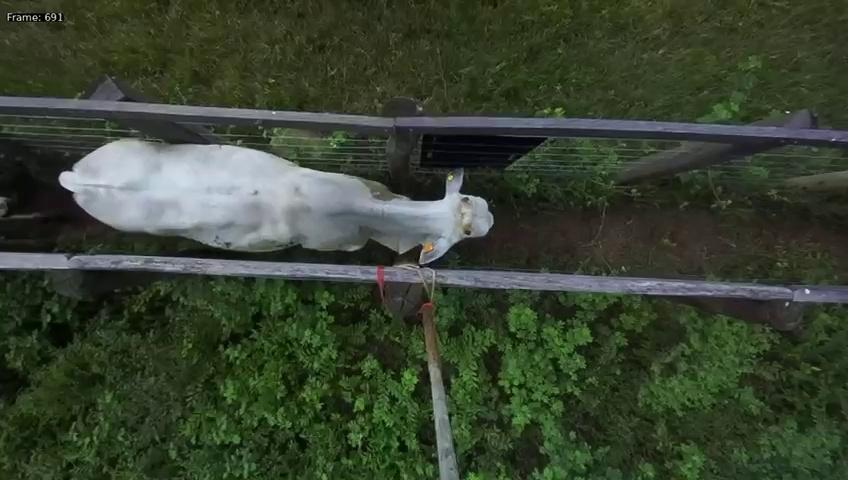cattle: (38, 130, 494, 265)
